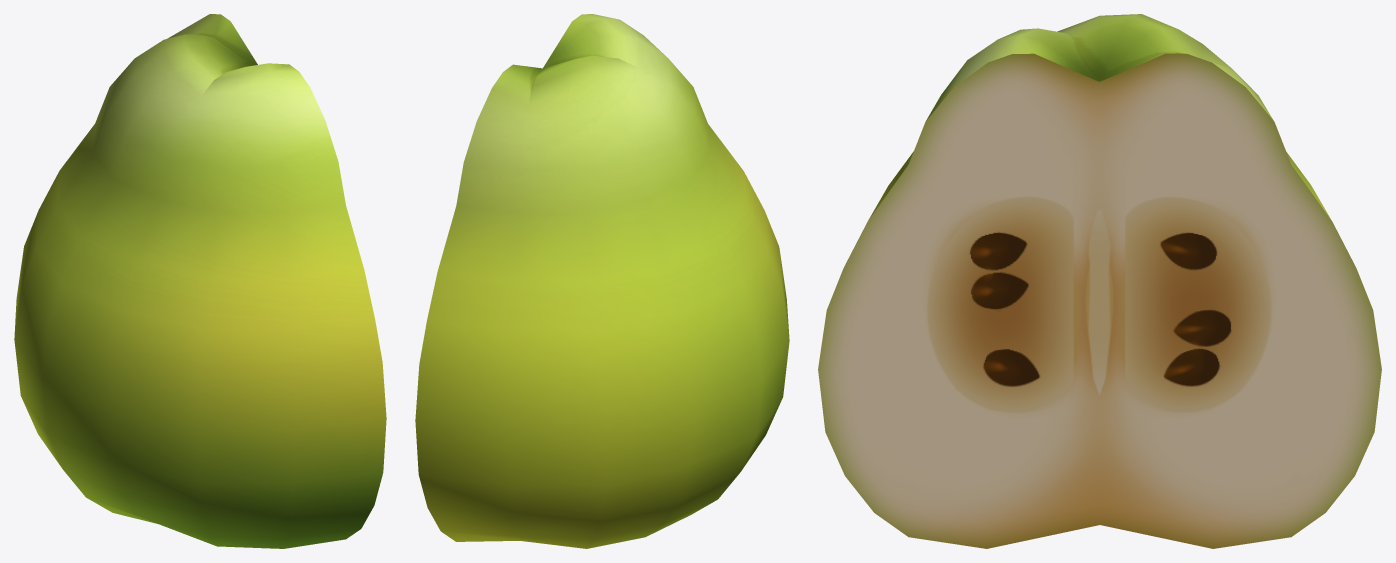
The model's file is Quince_Green_Half_01.fbx.
3 views of the same model, side by side, from view 1: azimuth 30°, elevation 25°; view 2: azimuth 150°, elevation 25°; view 3: azimuth 270°, elevation 25° (orthographic). The views are drawn at different scales.
Parts seen in each view (by area): view 1: Quince_Green_Half_01; view 2: Quince_Green_Half_01; view 3: Quince_Green_Half_01.
Boxes of the visible parts, x1,y1,x2,y2 form: Quince_Green_Half_01: (14,14,386,548); Quince_Green_Half_01: (415,14,789,548); Quince_Green_Half_01: (818,14,1381,548).
Size of the model in its own units: 18.29 by 36.16 by 36.74.
